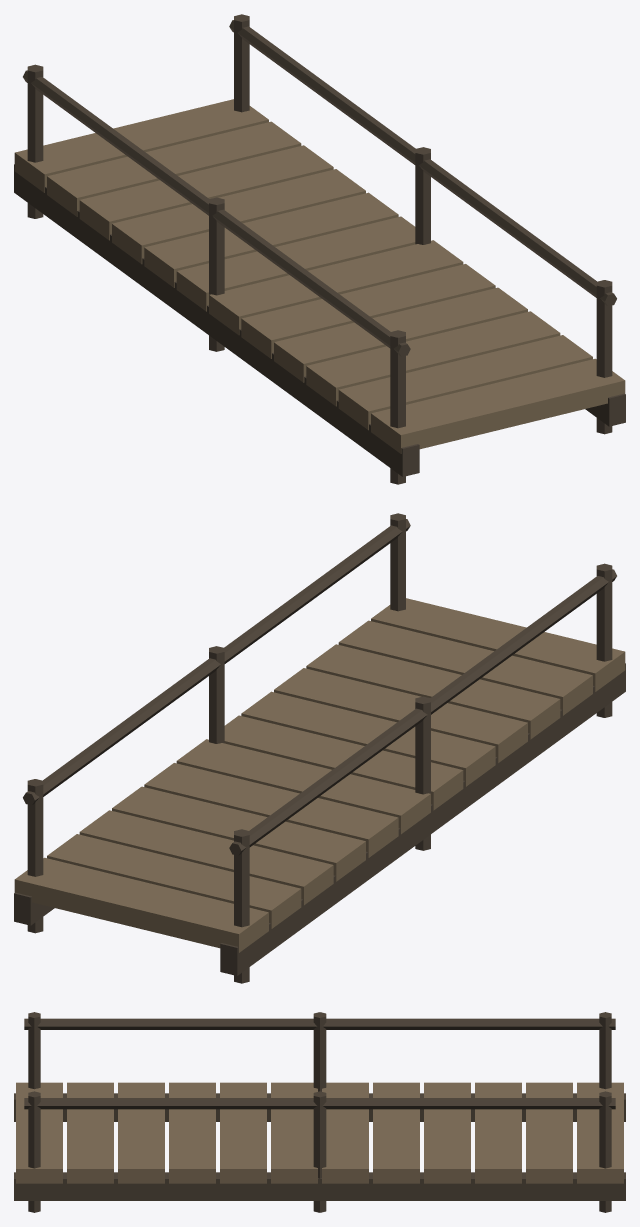
File: ENV_Module_05_Bridge.glb
3 renders of one model, top to bottom at view 1: azimuth 30°, elevation 25°; view 2: azimuth 150°, elevation 25°; view 3: azimuth 270°, elevation 25°, orthographic. The views are drawn at different scales.
Parts seen in each view (by area): view 1: ENV_Module_05_Bridge; view 2: ENV_Module_05_Bridge; view 3: ENV_Module_05_Bridge.
Boxes of the visible parts, x1,y1,x2,y2 form: ENV_Module_05_Bridge: [14, 14, 625, 484]; ENV_Module_05_Bridge: [14, 513, 625, 983]; ENV_Module_05_Bridge: [14, 1012, 625, 1212].
Bounding box in the file's own units: 2 × 1.25 × 6.
